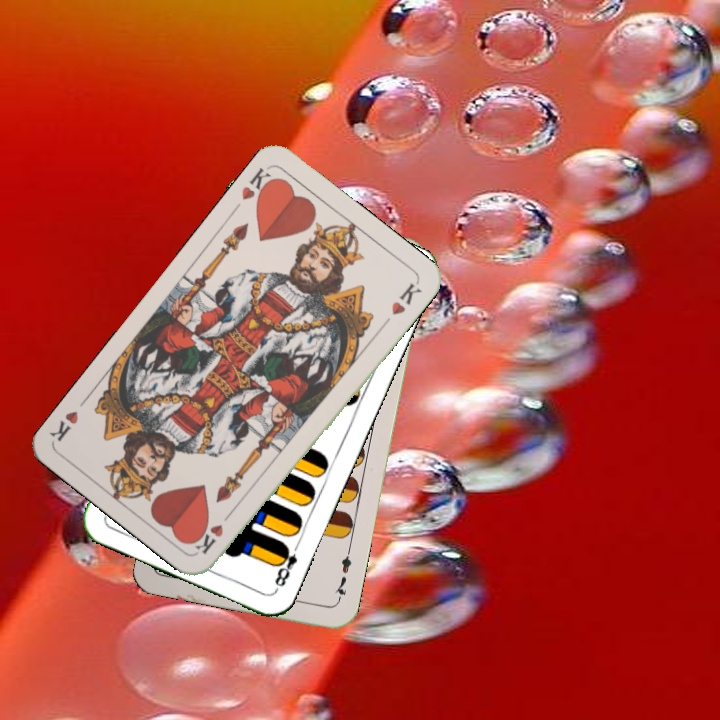E7: (331, 546, 354, 605)
E8: (270, 538, 303, 590)
HK: (192, 505, 237, 558), (237, 163, 280, 208)
